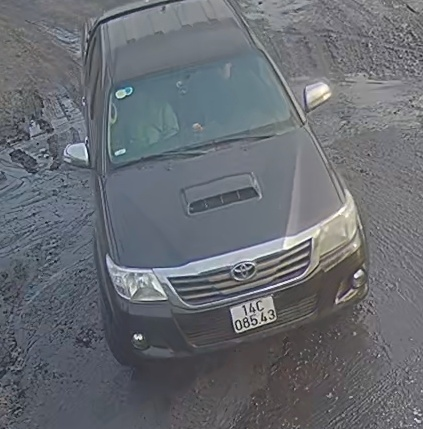vehicle plate: (228, 294, 283, 342)
